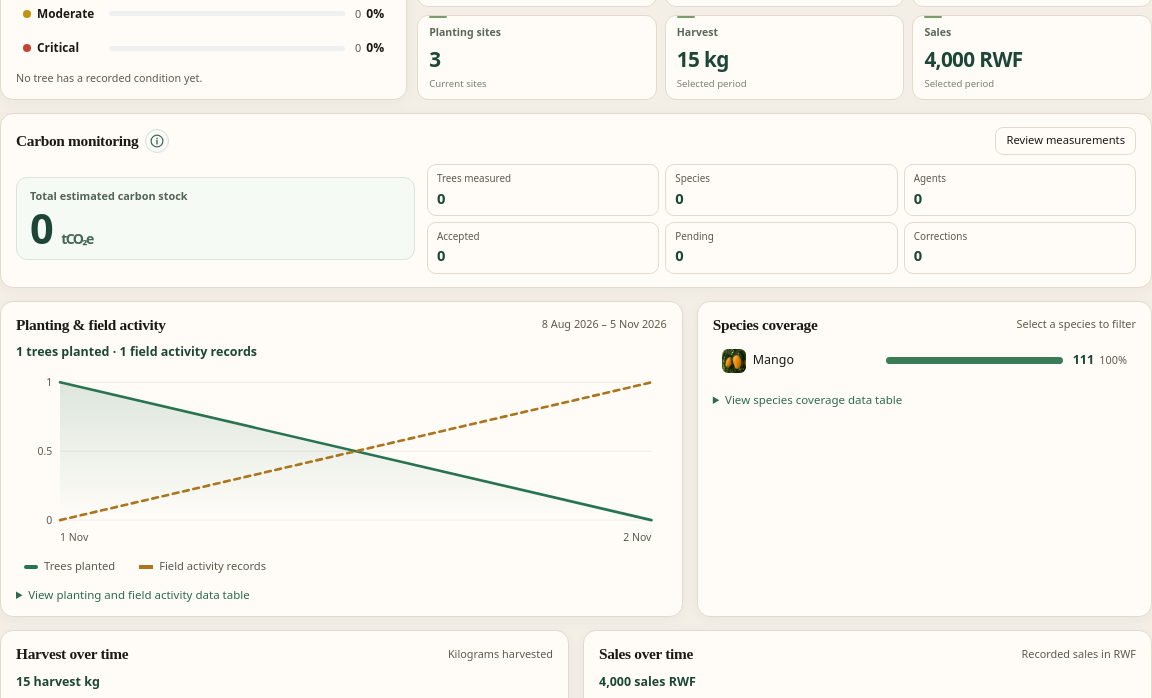
dashboard requests and role behavior › persists dropdown/bar filters and follows URL history without feedback
The width and height of the screenshot is (1152, 698).
(page scrolled)
Click the button with aria-label "Filter by Mango, 111 trees" at (924, 361), box [713, 343, 1136, 379]
(page scrolled)
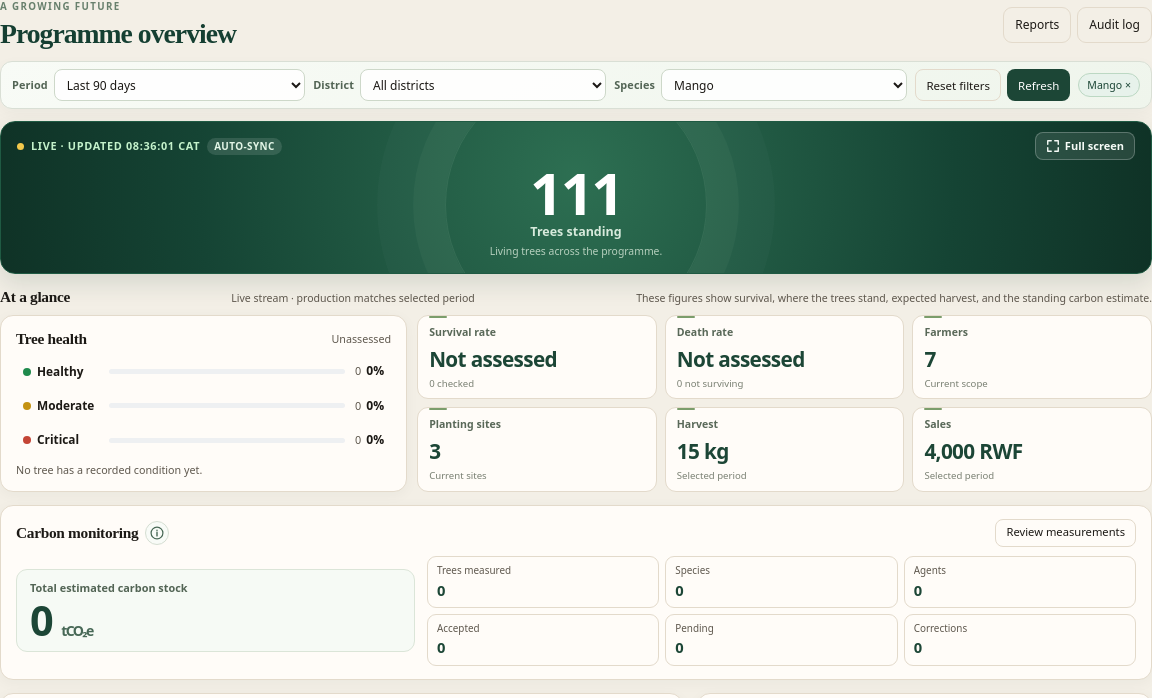
Check: the button with aria-label "Clear species filter" is shown, box [1078, 73, 1140, 97]
Select "Huye" in the dropdown labelled "District" at (483, 85), box [360, 69, 606, 101]
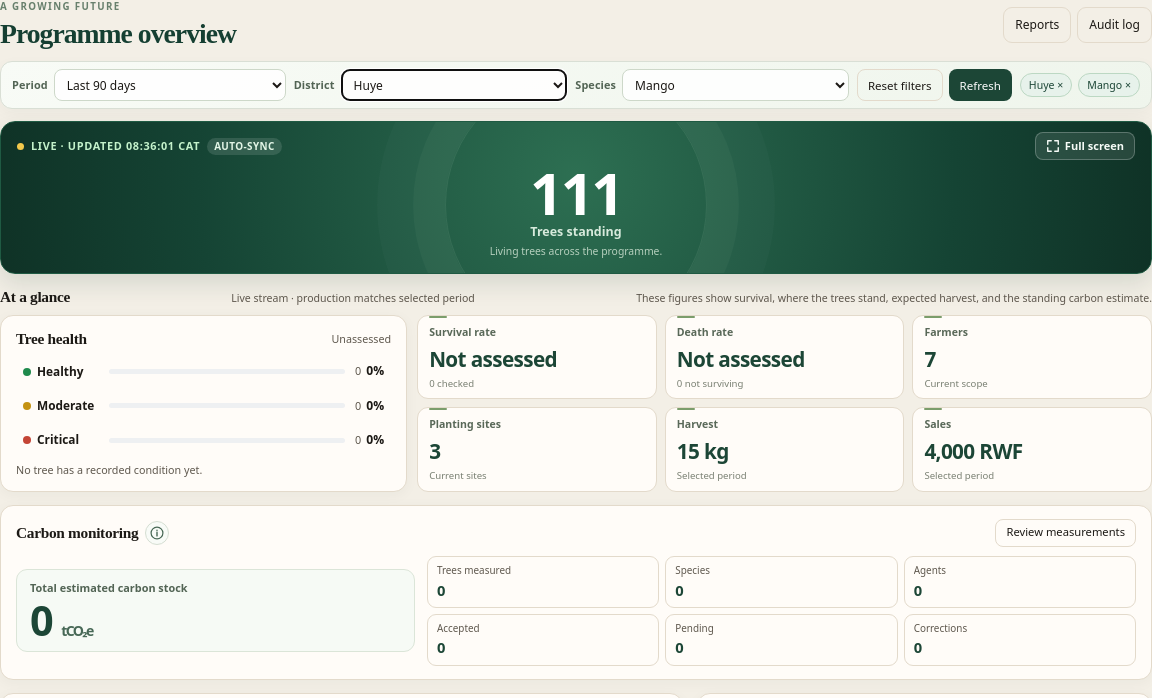
Click the button "Reset filters" at (900, 85), box [857, 69, 943, 101]
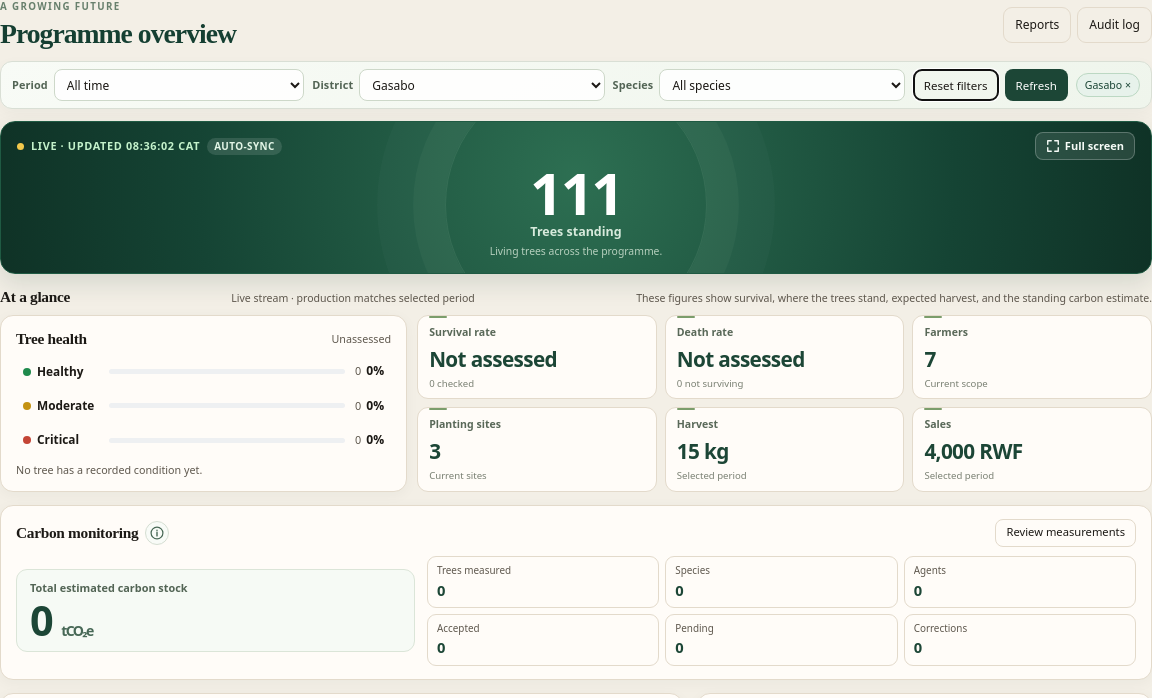
Check: the dropdown labelled "Period" shows "All time", box [54, 69, 304, 101]
